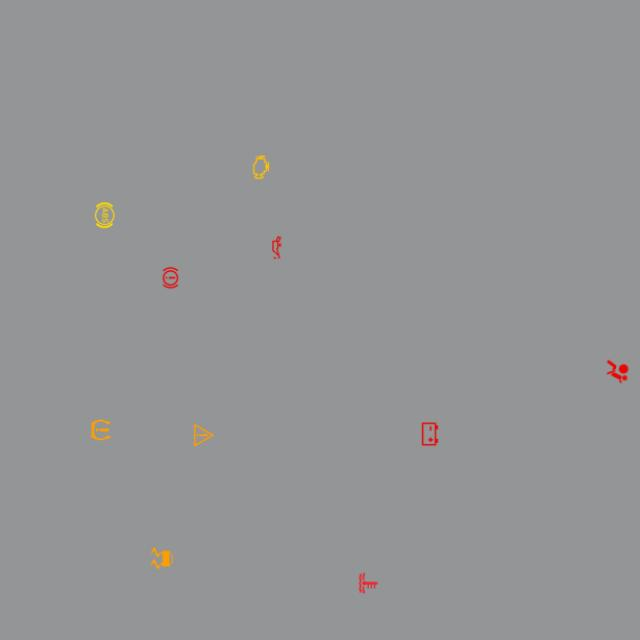Anti Lock Braking System: (91, 201, 119, 229)
Braking System Issue: (156, 264, 184, 292)
Charging System Issue: (416, 420, 444, 448)
Check Engine: (247, 154, 275, 182)
Electronic Stability Problem -ESP-: (148, 544, 176, 572)
Engine Overheating Warning Light: (354, 569, 382, 597)
Low Engine Oil Warning Light: (262, 234, 290, 262)
Low Tire Pressure Warning Light: (86, 416, 115, 444)
Master warning light: (190, 421, 218, 449)
SRS-Airbag: (604, 358, 632, 386)
